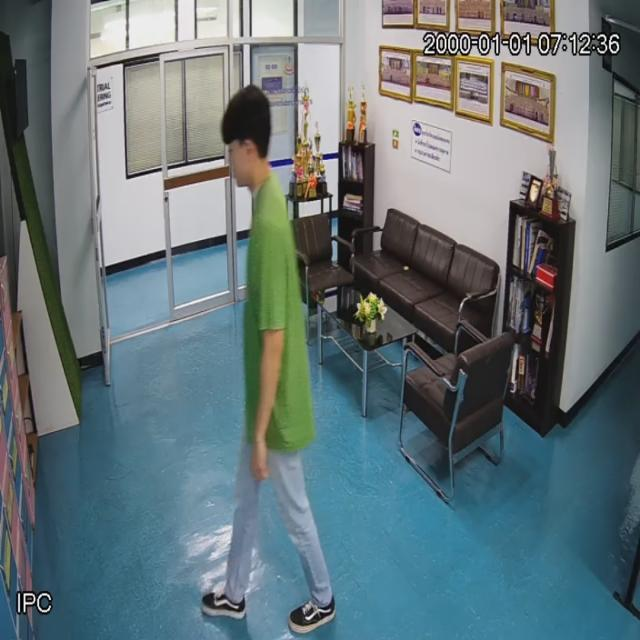normal: (203, 82, 347, 640)
